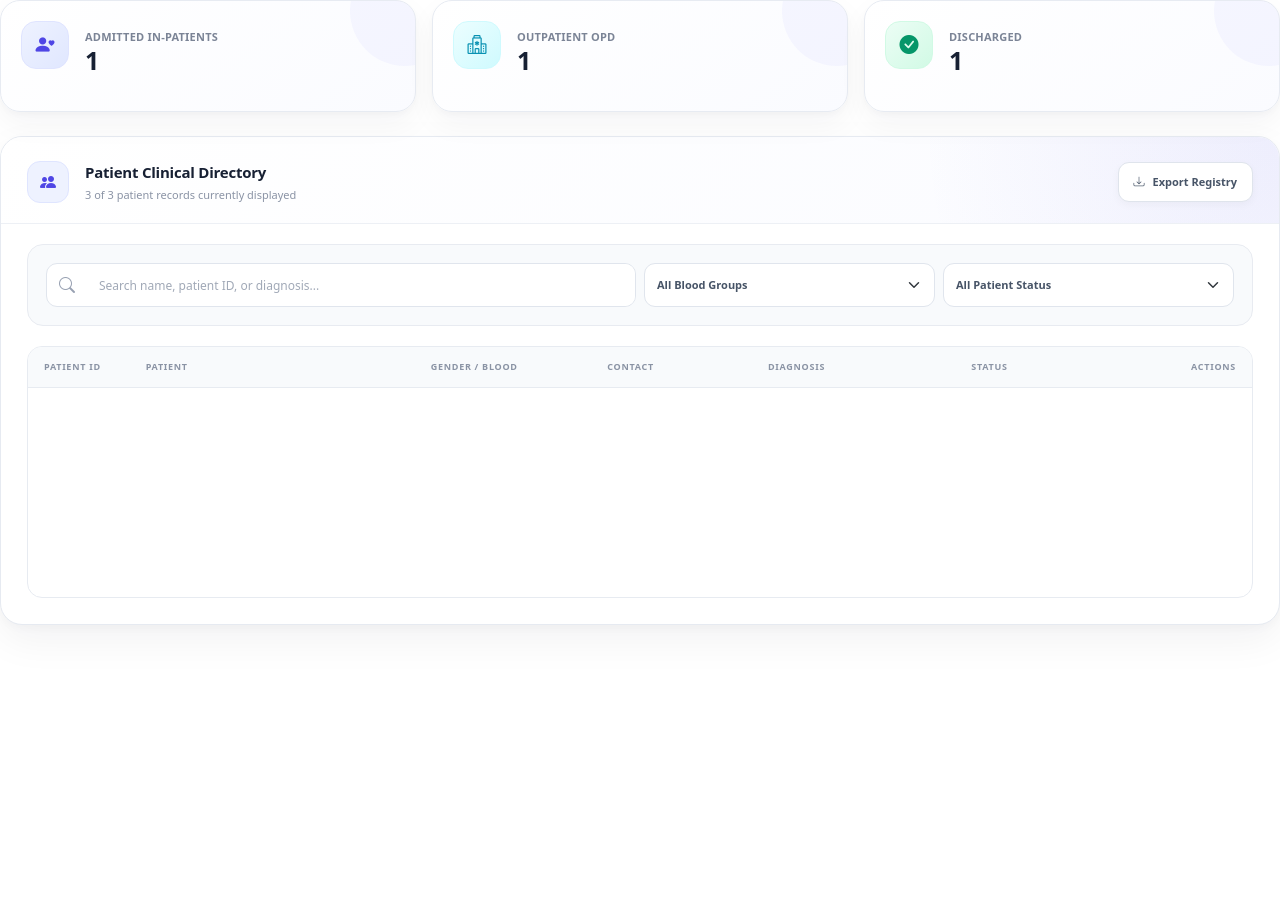
Test: PatientList Integration Suite › filters patients by clinical status
Select "Outpatient" in the 2nd dropdown showing "all patient status" at (1088, 285), box [943, 263, 1234, 307]
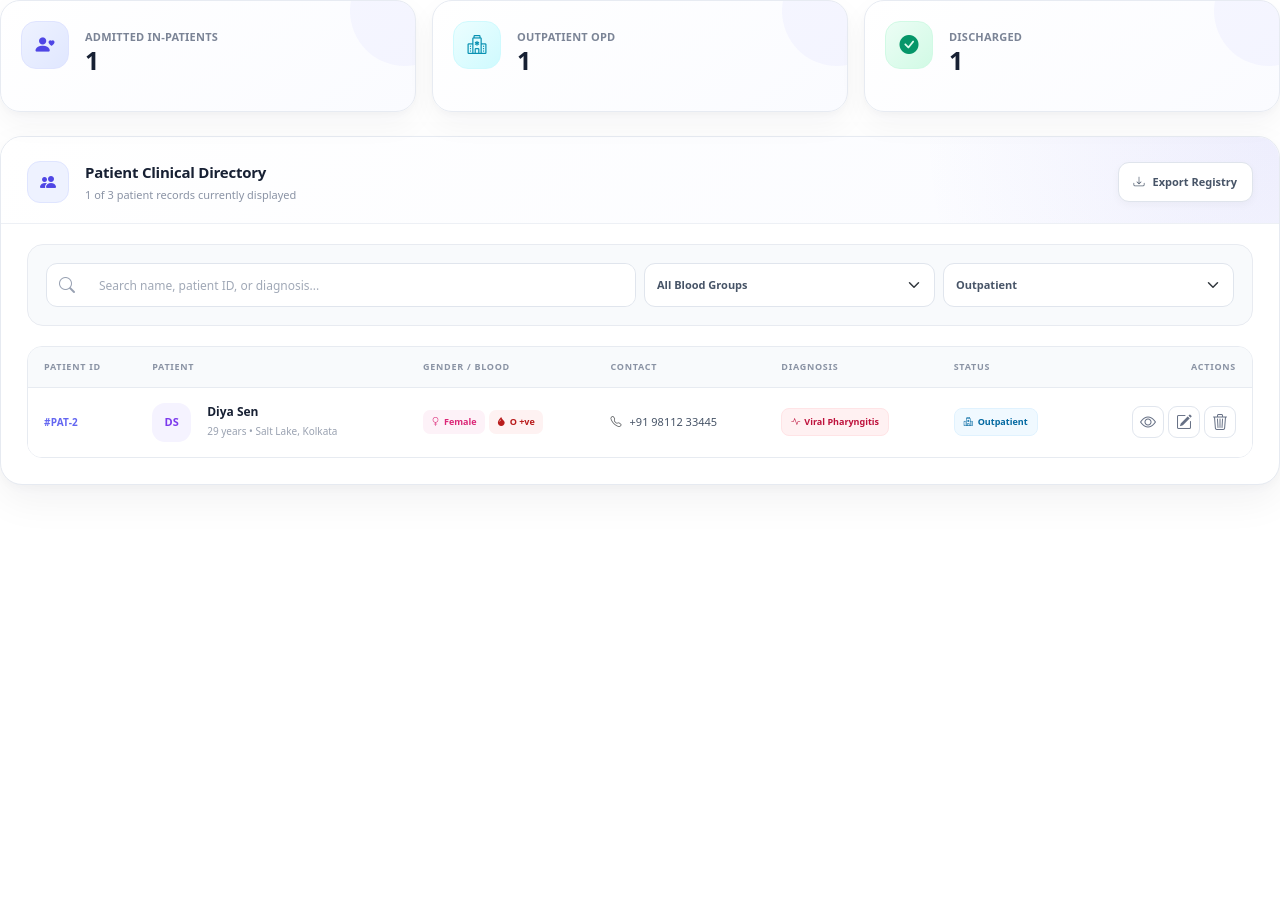
Expected: the text "Diya Sen" is shown, [207, 403, 258, 420]
